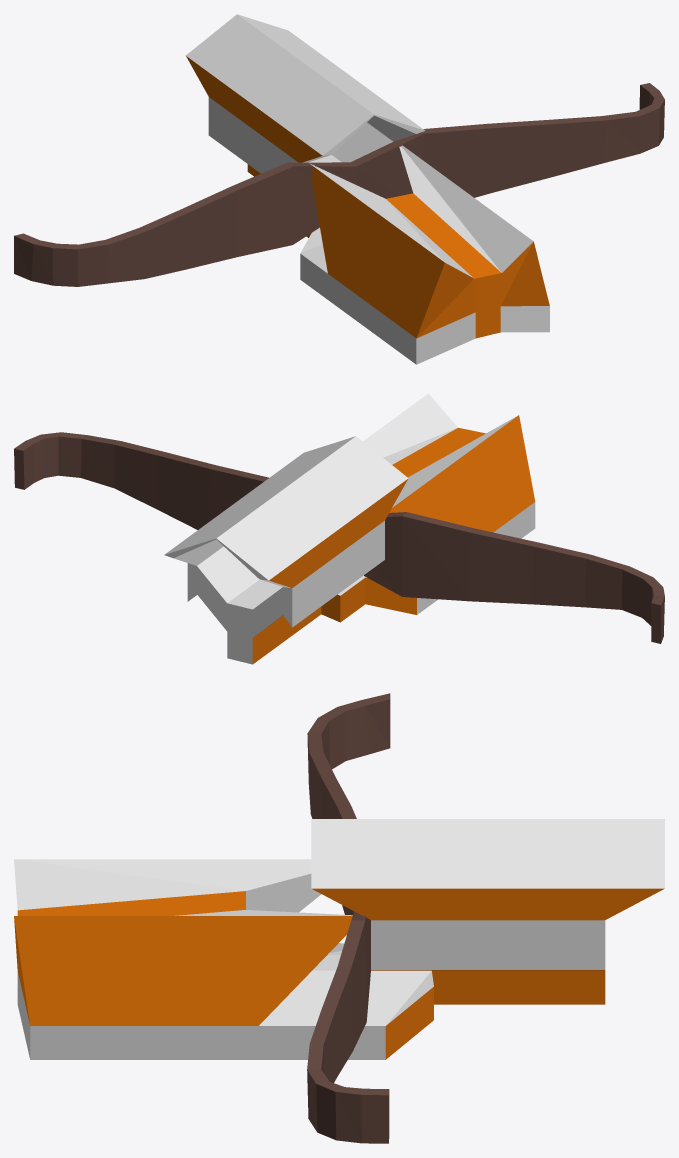
The model's file is I Beamus.fbx.
3 views of the same model, one above another, from view 1: azimuth 30°, elevation 25°; view 2: azimuth 150°, elevation 25°; view 3: azimuth 270°, elevation 25° (orthographic). The views are drawn at different scales.
Parts seen in each view (by area): view 1: pasted__pasted__pCube3; view 2: pasted__pasted__pCube3; view 3: pasted__pasted__pCube3.
Part boxes in pixels (bbox=[...]): pasted__pasted__pCube3: bbox=[14, 14, 664, 364]; pasted__pasted__pCube3: bbox=[14, 393, 664, 664]; pasted__pasted__pCube3: bbox=[14, 693, 664, 1143].
Bounding box in the file's own units: 25.35 × 5.88 × 17.44.
